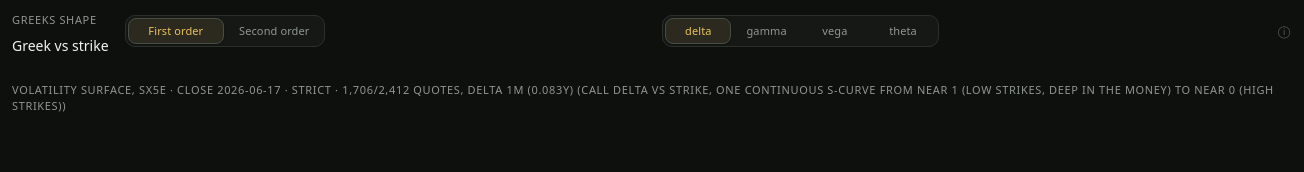
it: GreekCurve, single-Greek chart driven by a Greek selector › a second-order Greek not banked for this close shows an honest gap, not a blank
This screenshot has width=1304, height=172.
Step 1. Click the button "Second order" → [274, 31], box [226,18,322,44]
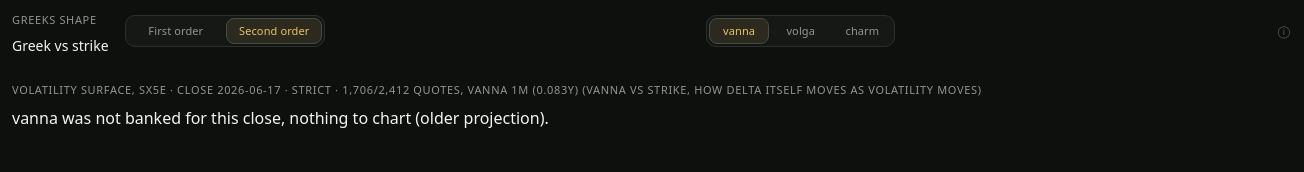
Now the message shows "not banked for this close", box [12,107,549,129]
